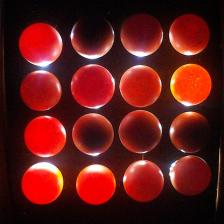fertile: (71, 16, 114, 60), (118, 110, 162, 153), (72, 112, 114, 156), (121, 13, 163, 56), (169, 111, 212, 153), (170, 155, 212, 197)
infertile: (72, 64, 115, 110), (170, 63, 212, 107), (120, 64, 162, 108), (20, 23, 61, 67), (123, 160, 164, 203), (25, 116, 66, 158), (22, 162, 63, 204), (20, 70, 62, 111), (76, 164, 116, 206), (169, 15, 210, 55)
